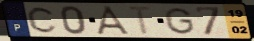0: (60, 5, 88, 35)
7: (194, 6, 222, 37)
A: (95, 5, 134, 36)
C: (26, 5, 60, 34)
G: (163, 7, 197, 36)
T: (126, 5, 156, 37)
